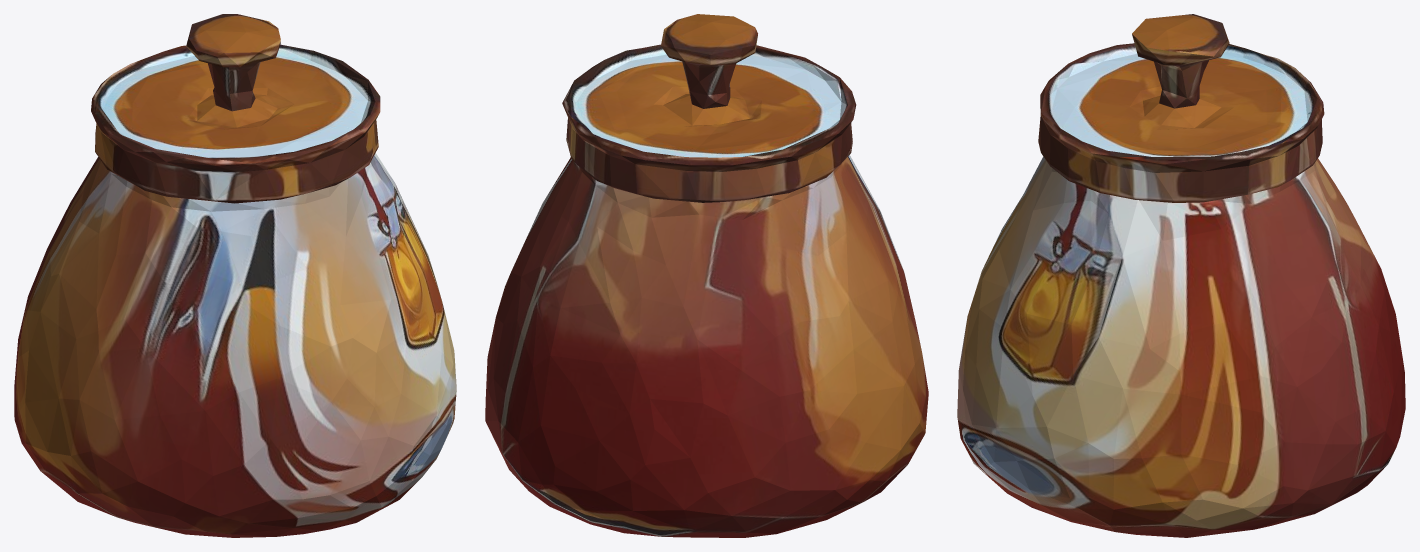
The model's file is hot_tea.glb.
3 views of the same model, side by side, from view 1: azimuth 30°, elevation 25°; view 2: azimuth 150°, elevation 25°; view 3: azimuth 270°, elevation 25° (orthographic).
Visible parts, largest first — view 1: tmpc45ht8d0.ply; view 2: tmpc45ht8d0.ply; view 3: tmpc45ht8d0.ply.
Boxes of the visible parts, x1,y1,x2,y2 form: tmpc45ht8d0.ply: [14, 14, 456, 537]; tmpc45ht8d0.ply: [485, 14, 928, 537]; tmpc45ht8d0.ply: [957, 14, 1405, 537].
Size of the model in its own units: 1.79 by 2 by 1.82.
Materials: 1 (1 with a texture image).
